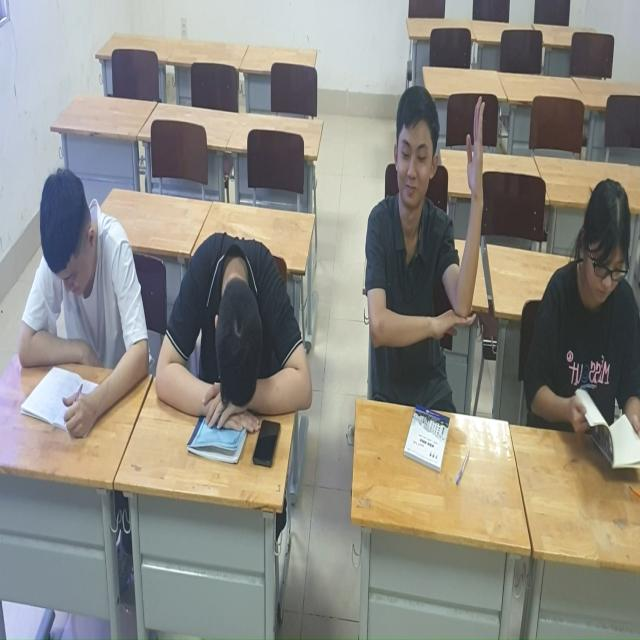raise_hand: (357, 77, 488, 399)
read: (8, 126, 158, 431), (524, 173, 640, 495)
sleep: (164, 212, 314, 439)
